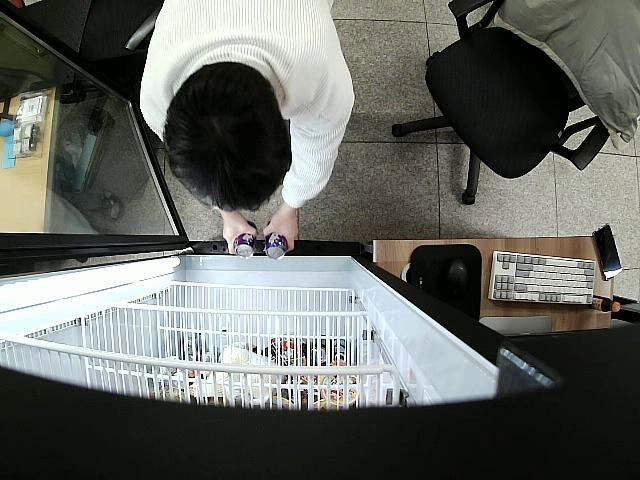14_welchsGrape: (266, 233, 288, 260), (234, 233, 256, 259)
